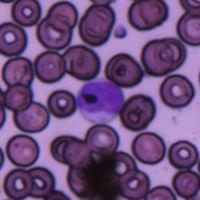M: (75, 77, 125, 123)
